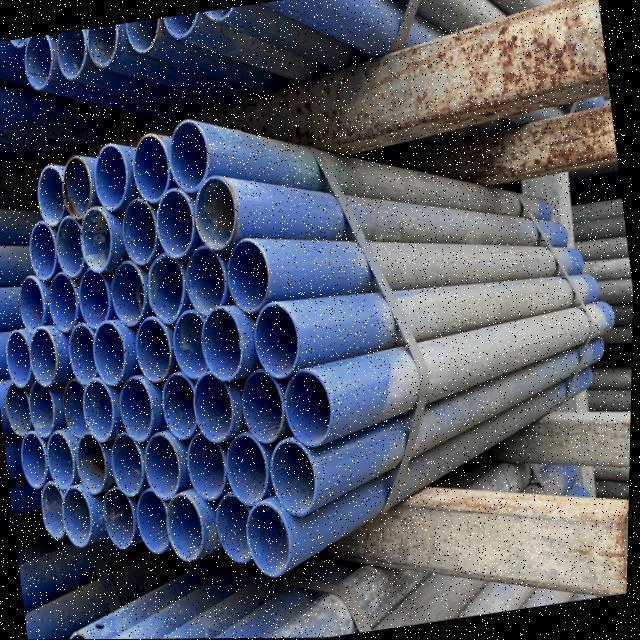pipe: (243, 495, 307, 589), (266, 435, 329, 525), (279, 364, 342, 453), (189, 303, 252, 387), (249, 298, 310, 384), (210, 491, 269, 577), (71, 317, 137, 390), (188, 175, 246, 258), (221, 236, 279, 318), (33, 156, 96, 231), (221, 429, 278, 511), (236, 368, 291, 449), (164, 119, 219, 200), (190, 371, 245, 448), (64, 209, 122, 281), (164, 490, 216, 567), (184, 429, 236, 506), (134, 485, 185, 563), (183, 245, 235, 321), (142, 431, 194, 506), (152, 188, 202, 265), (144, 252, 194, 329), (129, 130, 178, 208), (157, 371, 205, 446), (29, 159, 77, 234), (131, 314, 180, 387), (114, 376, 164, 447), (105, 261, 155, 332), (119, 197, 167, 270), (56, 480, 106, 550), (92, 142, 139, 216), (104, 428, 152, 500), (43, 270, 93, 339), (76, 376, 124, 447), (77, 263, 123, 337), (57, 155, 103, 229), (171, 308, 216, 382), (13, 271, 59, 342), (58, 374, 102, 448), (101, 483, 146, 553), (32, 482, 81, 545), (1, 377, 43, 447), (26, 218, 69, 285), (42, 426, 85, 492), (2, 323, 37, 401), (24, 375, 64, 443), (17, 426, 57, 494), (27, 323, 68, 389), (76, 432, 120, 493), (123, 19, 171, 60), (25, 35, 57, 91), (88, 20, 121, 68), (59, 30, 89, 82), (67, 625, 105, 640), (97, 628, 138, 640)
